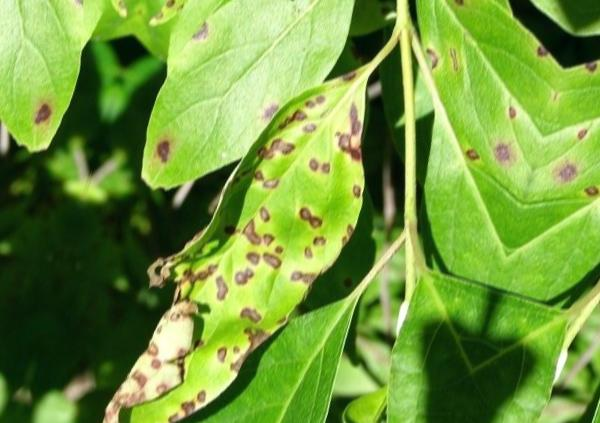Tomato leaf bacterial spot: (77, 9, 412, 423), (112, 0, 367, 244)
